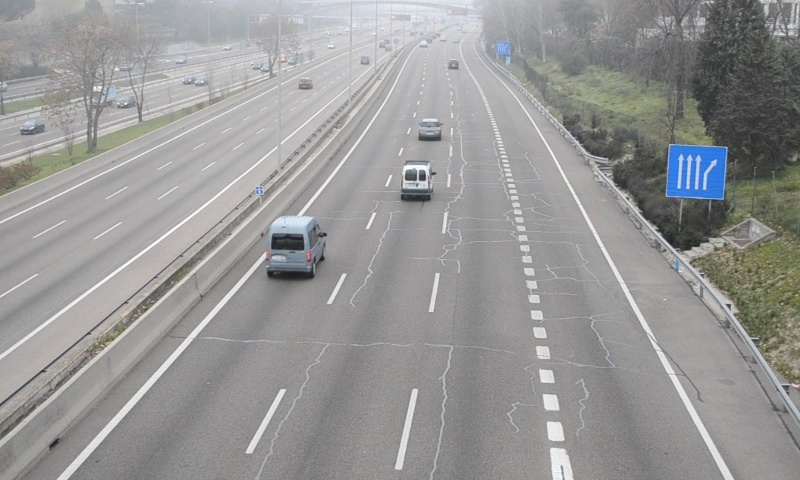car: (417, 118, 442, 142)
van: (264, 216, 323, 276), (400, 163, 431, 198)
